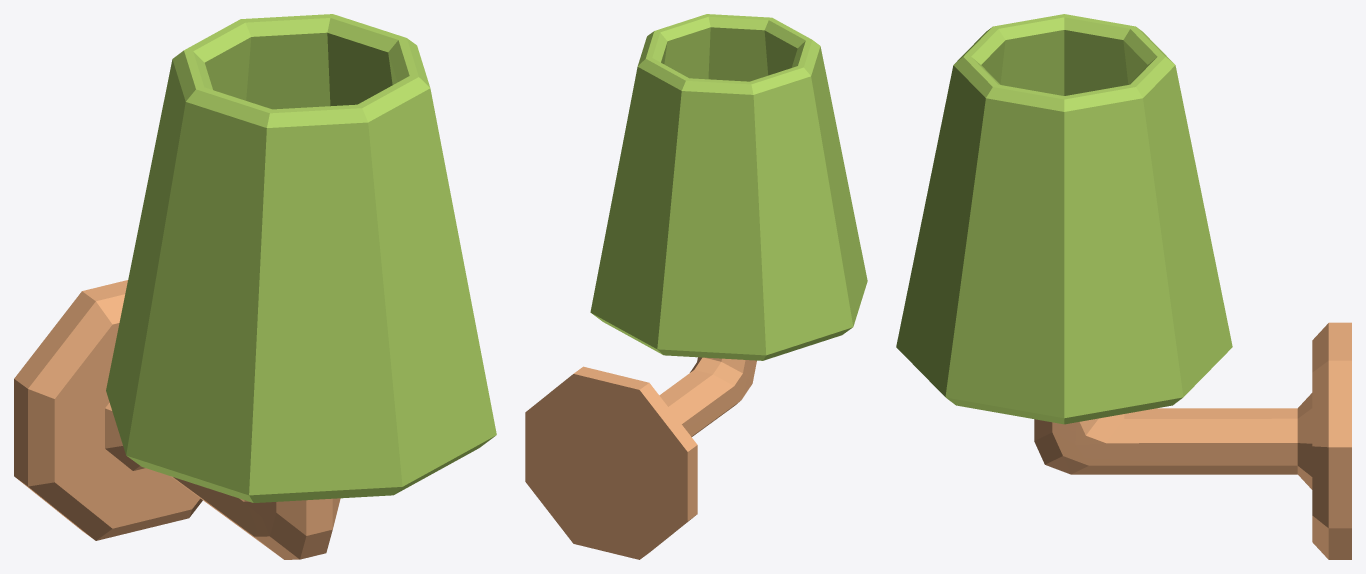
The model's file is Sconce.fbx.
3 views of the same model, side by side, from view 1: azimuth 30°, elevation 25°; view 2: azimuth 150°, elevation 25°; view 3: azimuth 270°, elevation 25° (orthographic). The views are drawn at different scales.
Visible parts, largest first — view 1: WallLamp; view 2: WallLamp; view 3: WallLamp.
Part boxes in pixels (x1,y1,x2,y2): WallLamp: (14, 14, 496, 559); WallLamp: (525, 14, 867, 559); WallLamp: (896, 14, 1351, 559).
Size of the model in its own units: 0.273 by 0.4334 by 0.3696.
Materials: 1 (1 with a texture image).
